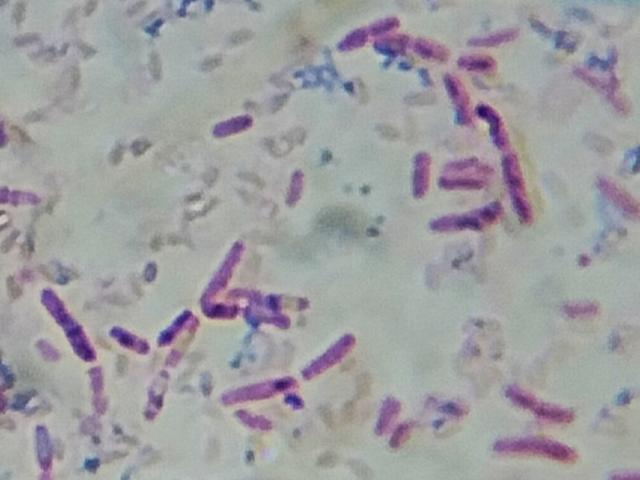E. coli: (479, 95, 533, 222), (498, 379, 586, 427), (42, 286, 92, 359), (488, 429, 585, 464), (199, 233, 240, 303), (303, 329, 363, 375), (436, 197, 505, 235), (332, 17, 405, 49), (216, 379, 299, 405), (401, 140, 434, 202), (83, 365, 116, 419), (31, 422, 62, 479), (379, 39, 448, 64), (446, 70, 474, 131), (159, 300, 194, 346), (209, 107, 254, 142), (368, 386, 398, 435), (466, 26, 527, 48), (442, 162, 487, 191), (266, 286, 314, 313), (111, 325, 150, 355), (236, 410, 278, 437), (248, 309, 290, 333), (282, 166, 304, 210), (462, 49, 498, 74), (389, 422, 416, 451), (202, 302, 240, 322), (235, 285, 260, 306)
